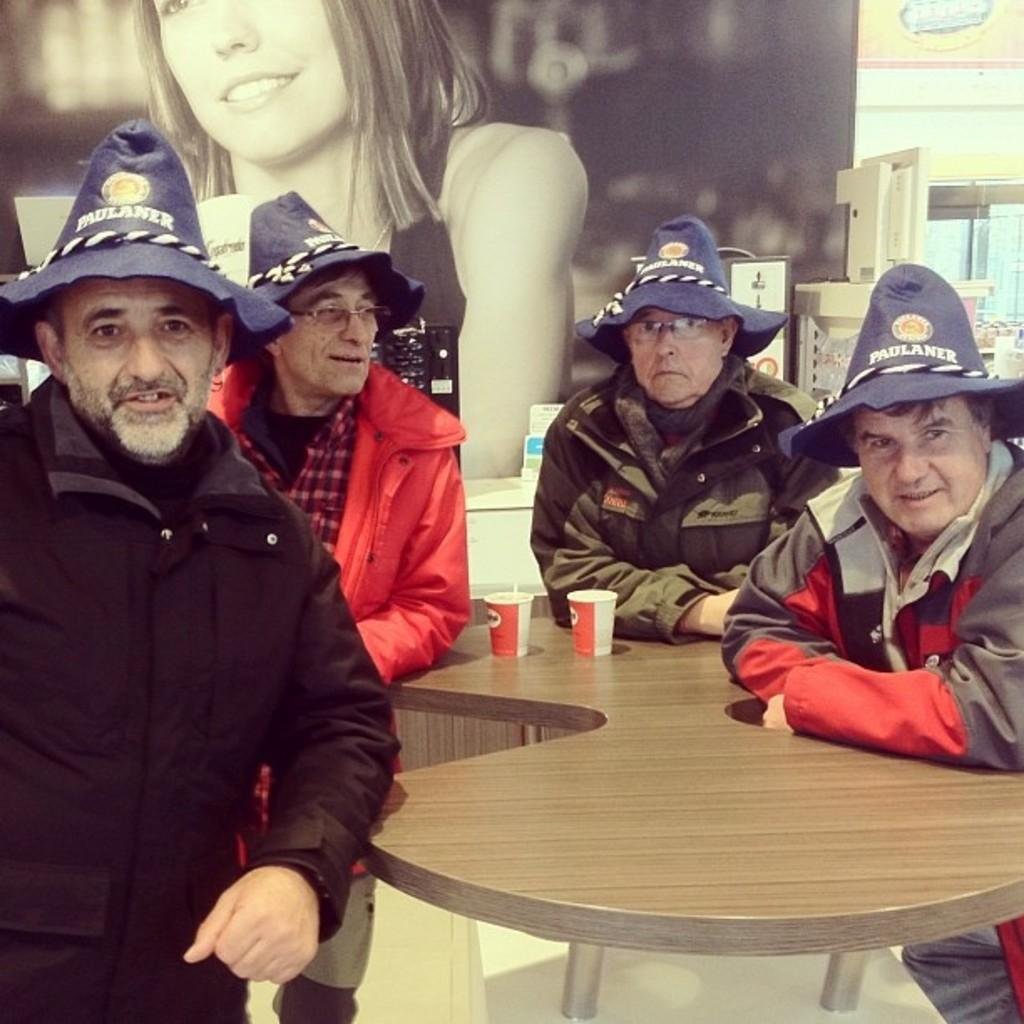Hat: (0, 114, 291, 364), (779, 264, 1022, 466), (573, 212, 791, 366), (244, 185, 423, 346)
